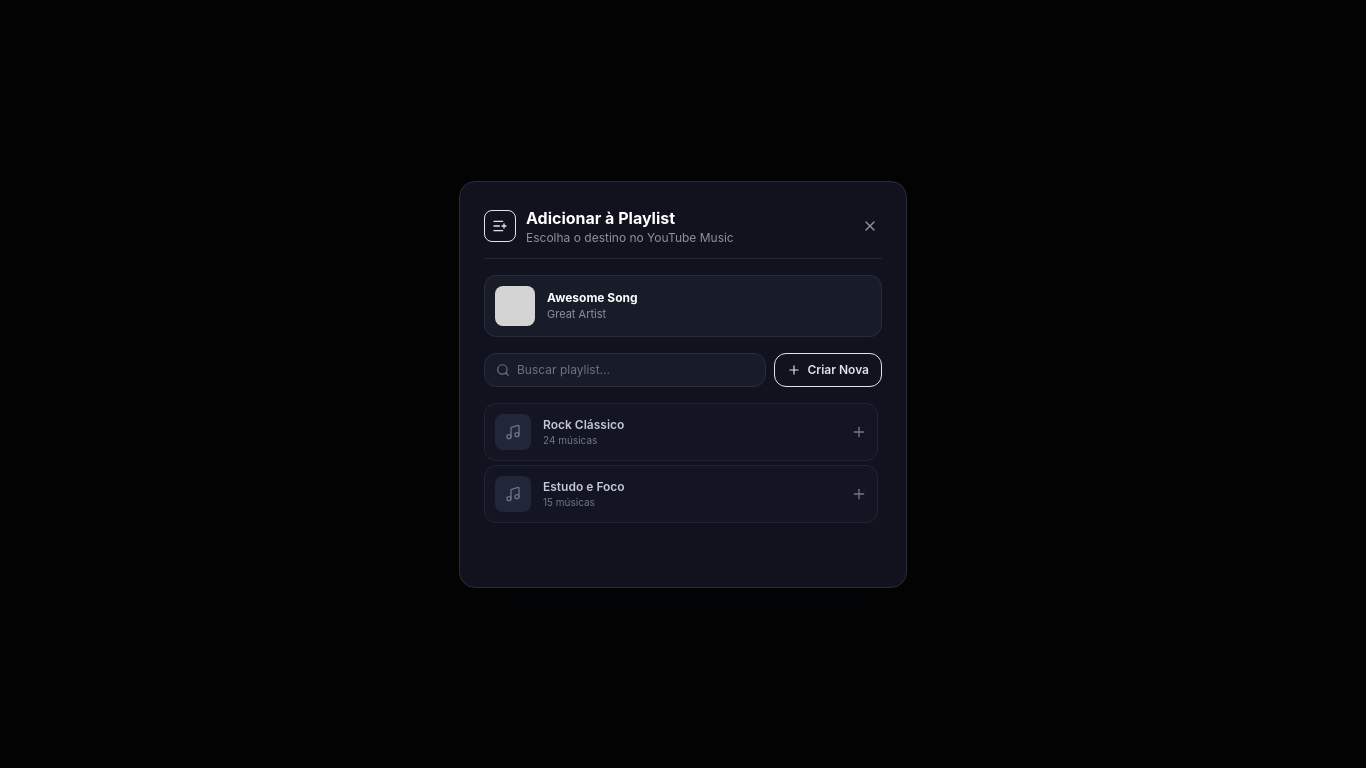
Test: PlaylistModals (Criação, Edição, Adição e Exclusão) › AddToPlaylistModal › filtra playlists com a caixa de busca
In the field with placeholder "Buscar playlist...": {"x": 625, "y": 370} [484,352,766,386], type "Rock"
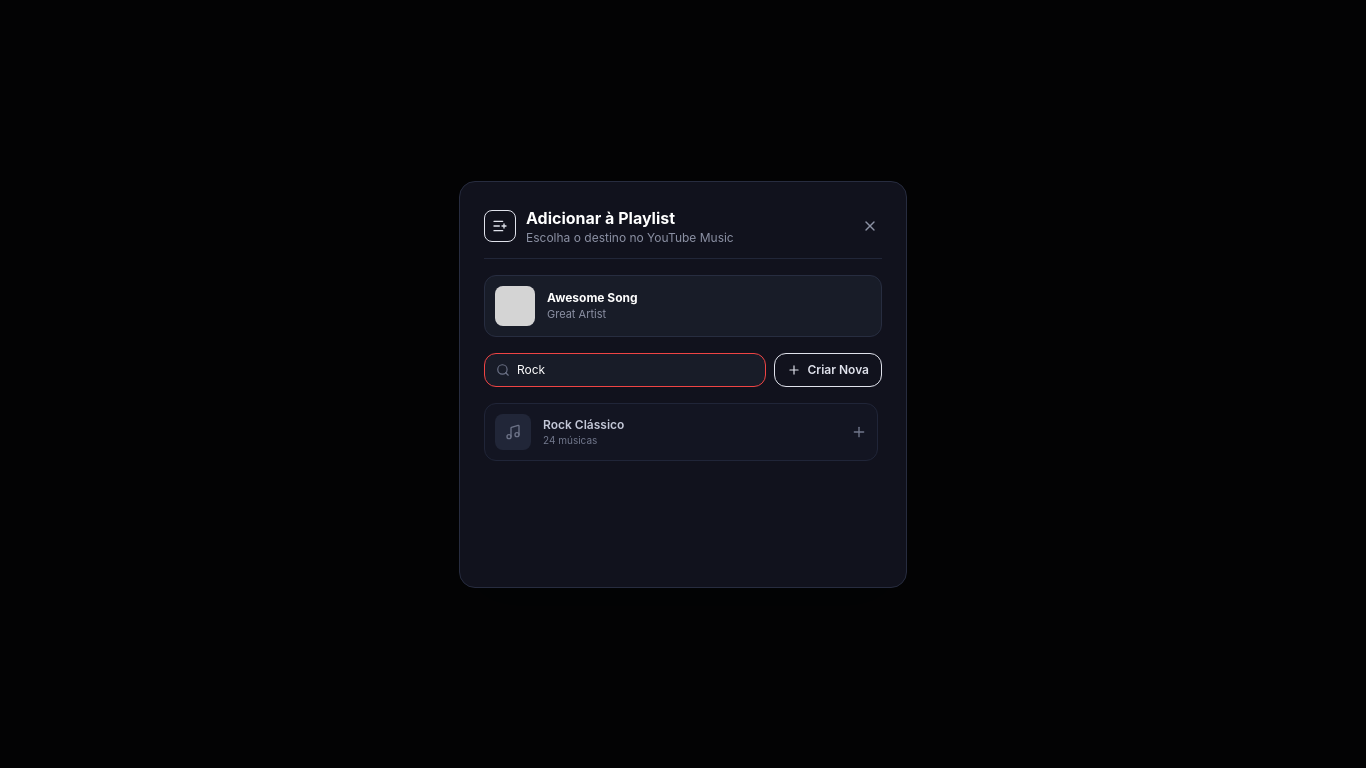
Expected: the text "Rock Clássico" is shown, [543,416,624,431]
Now the button "Estudo e Foco" is gone
